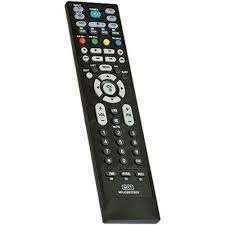remote control: (61, 0, 164, 225)
